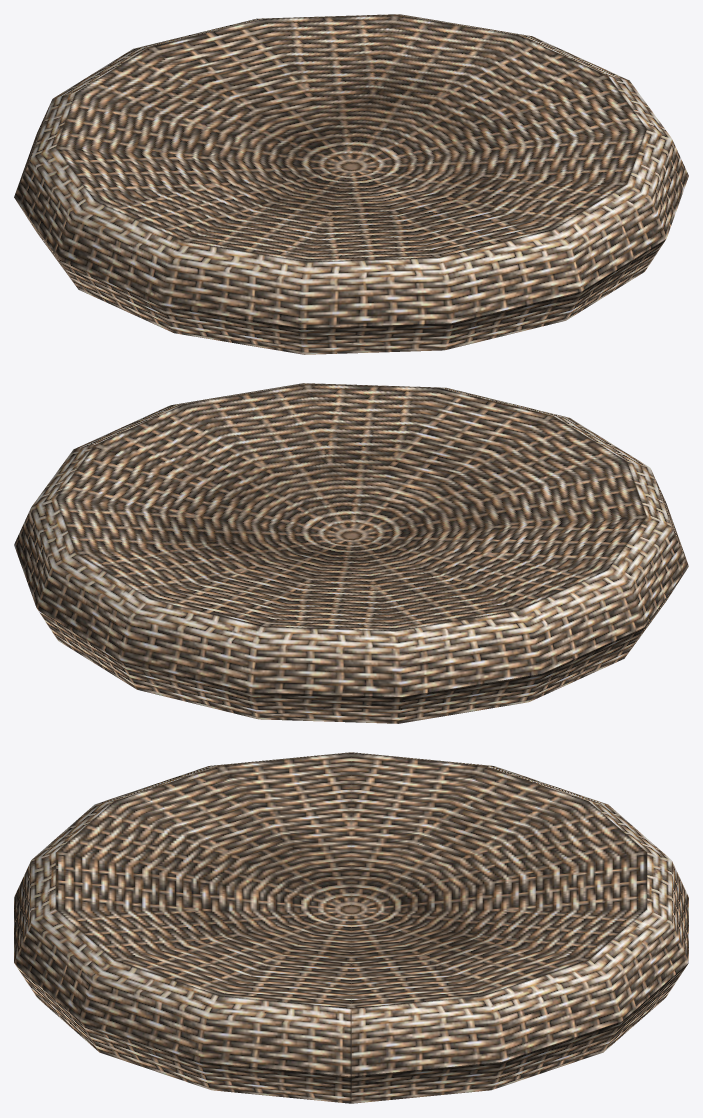
The model's file is basket2_LOD1.FBX.
The picture shows the model from 3 angles, top to bottom: view 1: azimuth 30°, elevation 25°; view 2: azimuth 150°, elevation 25°; view 3: azimuth 270°, elevation 25°; orthographic projection. The views are drawn at different scales.
Visible parts, largest first — view 1: basket2_LOD1; view 2: basket2_LOD1; view 3: basket2_LOD1.
Part boxes in pixels (x1,y1,x2,y2): basket2_LOD1: (14, 14, 688, 354); basket2_LOD1: (14, 383, 688, 723); basket2_LOD1: (14, 752, 688, 1103).
Size of the model in its own units: 51.11 by 7.05 by 49.82.
